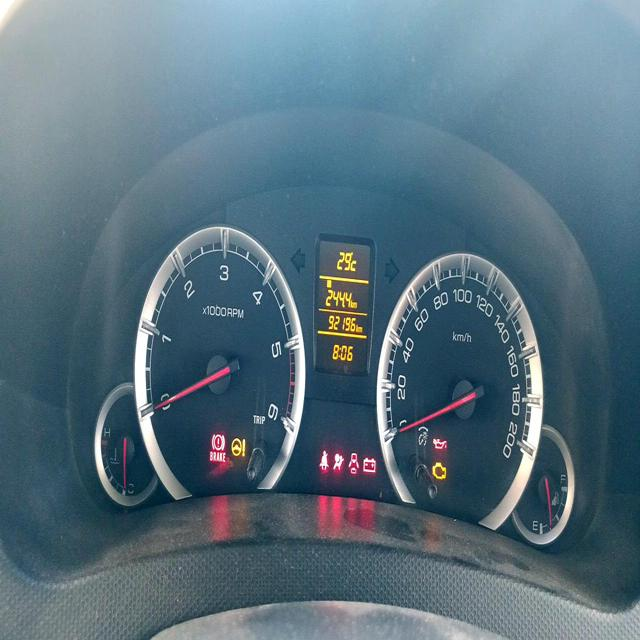odometer: (324, 311, 358, 336)
